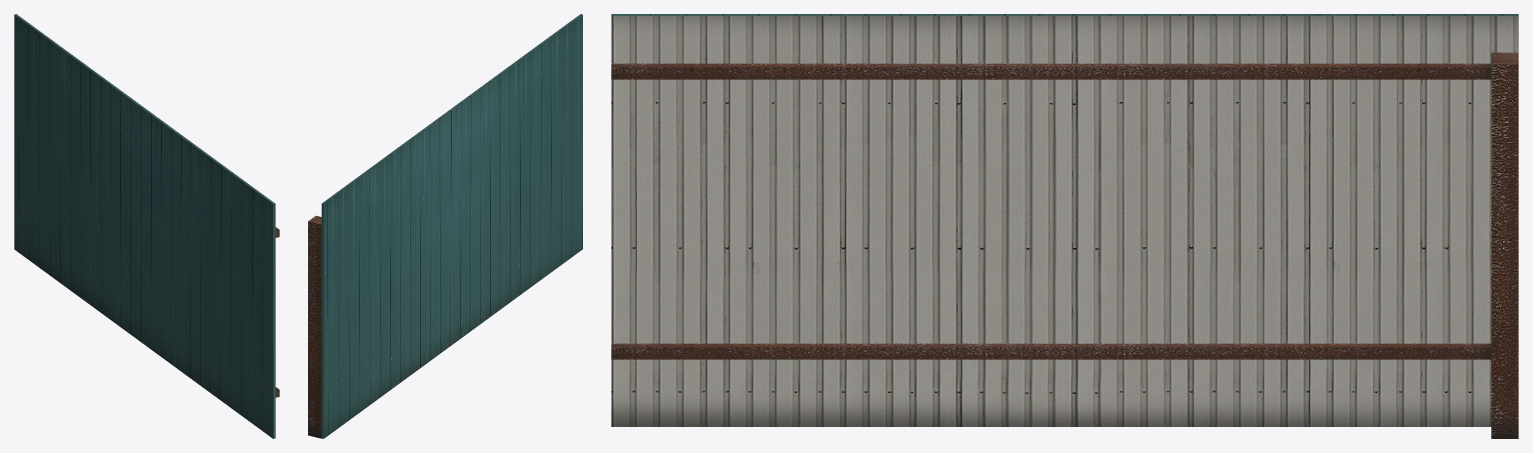
Rendered from sibir_zabor_metal3.FBX.
The picture shows the model from 3 angles, left to right: view 1: azimuth 30°, elevation 25°; view 2: azimuth 150°, elevation 25°; view 3: azimuth 270°, elevation 25°; orthographic projection. The views are drawn at different scales.
Parts seen in each view (by area): view 1: Box001; view 2: Box001; view 3: Box001.
Part boxes in pixels (x1,y1,x2,y2): Box001: [14, 14, 279, 438]; Box001: [308, 14, 582, 438]; Box001: [611, 14, 1518, 438].
Size of the model in its own units: 0.1401 by 2 by 4.
Materials: 1 (1 with a texture image).
